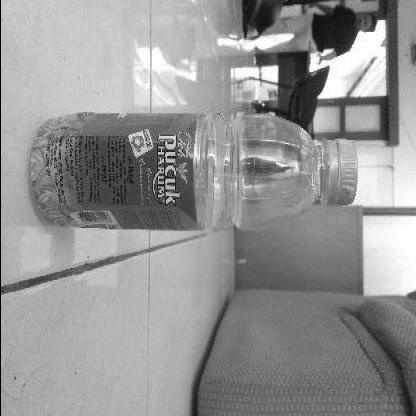plastic_bottles: (24, 108, 360, 240)
